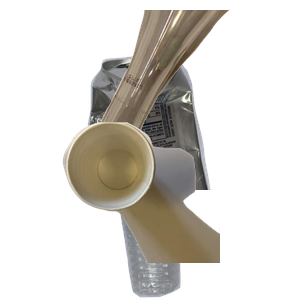glass: (80, 10, 300, 182)
metal: (85, 48, 300, 228)
plastic: (115, 176, 288, 300)
trash: (60, 120, 300, 300)
